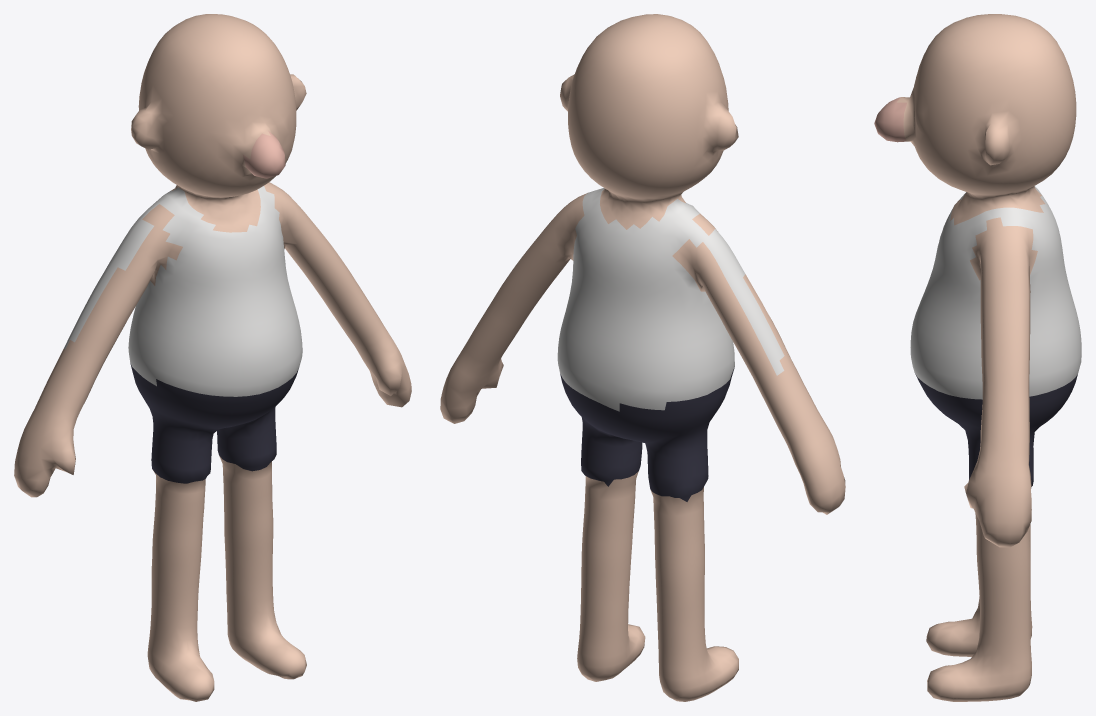
Rendered from base_clean.glb.
The picture shows the model from 3 angles, left to right: view 1: azimuth 30°, elevation 25°; view 2: azimuth 150°, elevation 25°; view 3: azimuth 270°, elevation 25°; orthographic projection.
Visible parts, largest first — view 1: Body; view 2: Body; view 3: Body.
Part boxes in pixels (<box>): Body: <box>14,14,411,701</box>; Body: <box>440,14,845,701</box>; Body: <box>874,14,1081,701</box>.
Size of the model in its own units: 1.13 by 1.81 by 0.5206.
